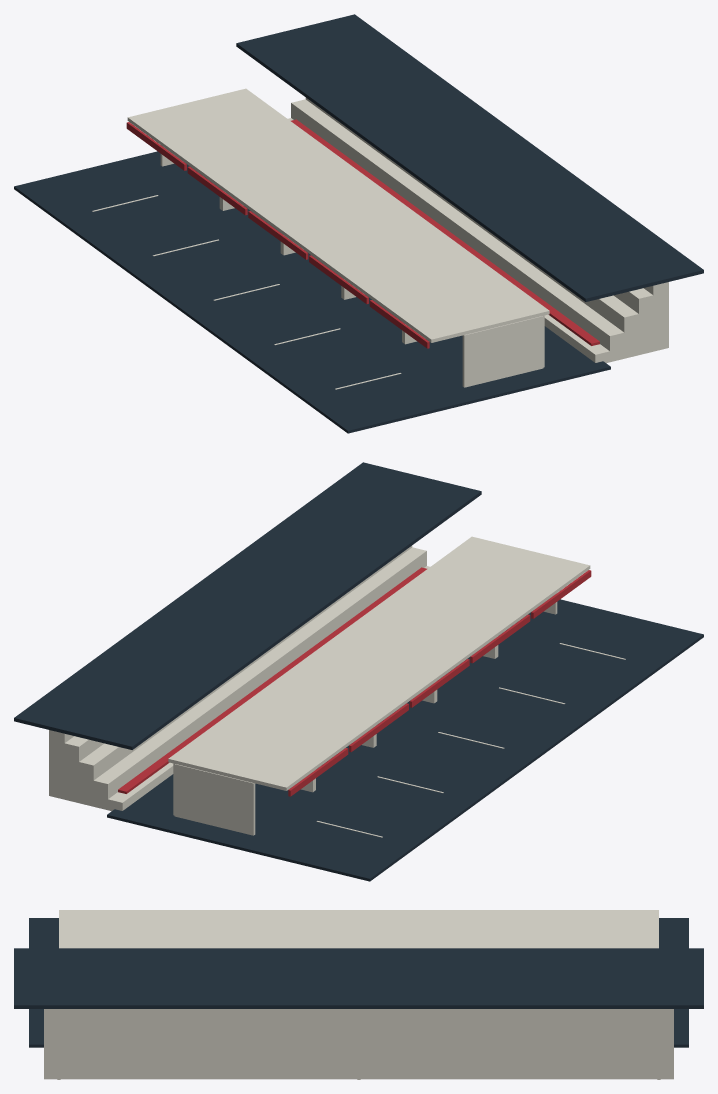
Rendered from pit_grandstand.glb.
3 renders of one model, top to bottom at view 1: azimuth 30°, elevation 25°; view 2: azimuth 150°, elevation 25°; view 3: azimuth 270°, elevation 25°, orthographic.
Visible parts, largest first — view 1: PitApron, StandRoof, StandStep1, Canopy4, Canopy0, Canopy1, Canopy2, Canopy3, BayWall4_1, StandStep2, SeatRow0, StandStep3 (+2 smaller); view 2: PitApron, StandRoof, StandStep1, Canopy0, Canopy4, Canopy3, Canopy1, Canopy2, BayWall0_-1, StandStep2, SeatRow0, StandStep3 (+2 smaller); view 3: StandStep4, StandRoof, Canopy0, Canopy1, Canopy2, Canopy3, Canopy4, PitApron.
Boxes of the visible parts, x1,y1,x2,y2 form: PitApron: (14,151,610,433); StandRoof: (236,14,703,301); StandStep1: (291,99,625,361); Canopy4: (370,266,549,342); Canopy0: (127,88,306,164); Canopy1: (188,133,367,209); Canopy2: (249,177,427,253); Canopy3: (310,222,488,298); BayWall4_1: (462,316,543,387); StandStep2: (305,97,640,358); SeatRow0: (291,119,599,345); StandStep3: (614,288,654,354); PitApron: (107,599,703,881); StandRoof: (14,462,481,749); StandStep1: (92,547,426,809); Canopy0: (168,714,347,790); Canopy4: (411,536,590,612); Canopy3: (350,581,529,657); Canopy1: (229,670,407,746); Canopy2: (290,625,468,701); BayWall0_-1: (174,764,255,835); StandStep2: (77,545,412,806); SeatRow0: (118,567,426,793); StandStep3: (63,736,103,802); StandStep4: (44,1009,673,1079); StandRoof: (14,948,703,1008); Canopy0: (539,910,658,948); Canopy1: (419,910,538,948); Canopy2: (299,910,418,948); Canopy3: (179,910,298,948); Canopy4: (59,910,178,948); PitApron: (29,918,688,1047).
Size of the model in its own units: 26.5 by 6.12 by 46.
